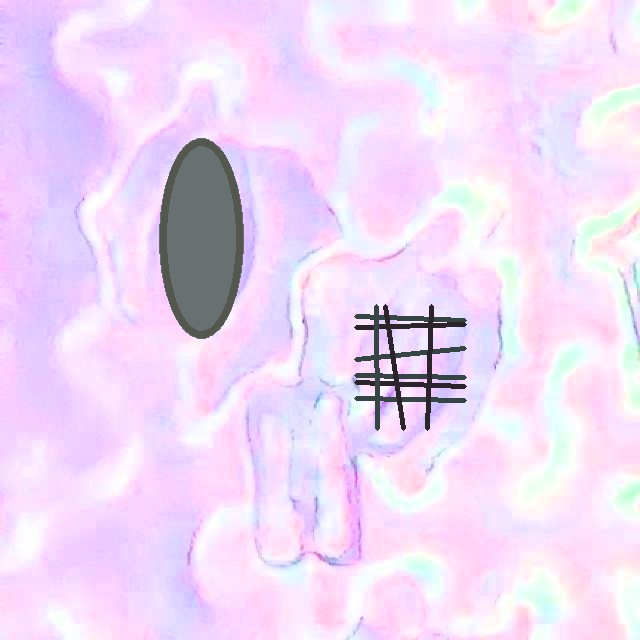open: (160, 137, 242, 338), (354, 304, 465, 429)
